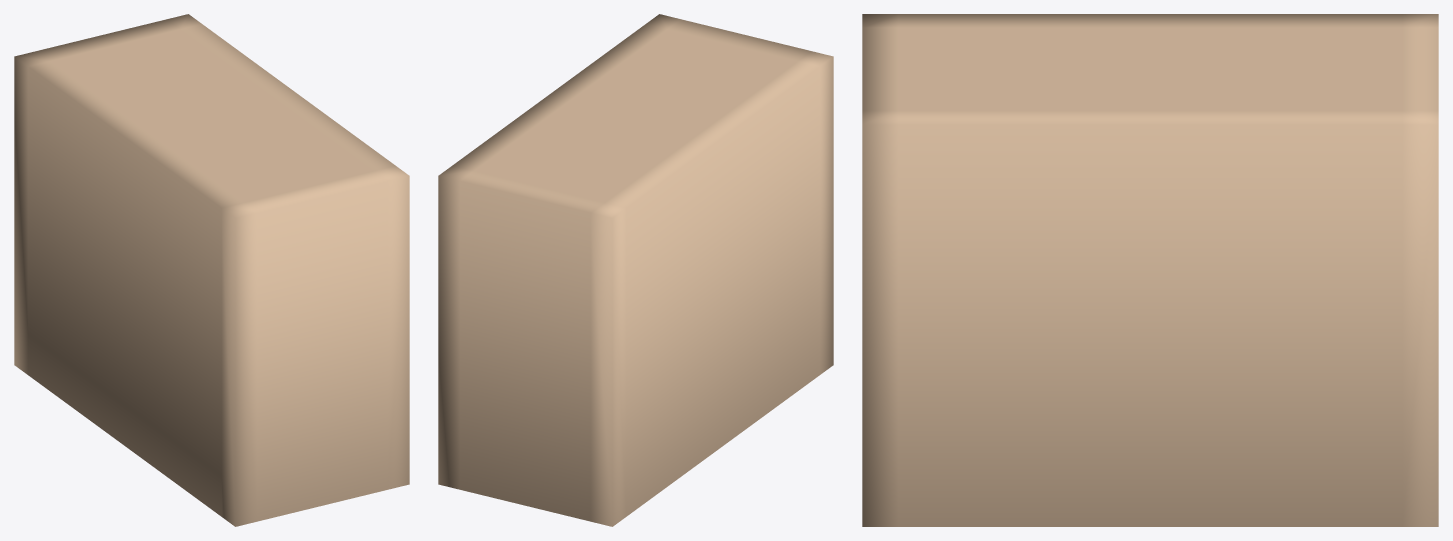
File: Lvl2Sand.fbx
3 renders of one model, left to right at view 1: azimuth 30°, elevation 25°; view 2: azimuth 150°, elevation 25°; view 3: azimuth 270°, elevation 25°, orthographic. The views are drawn at different scales.
Visible parts, largest first — view 1: Quicksand2:Quicksand; view 2: Quicksand2:Quicksand; view 3: Quicksand2:Quicksand.
Part boxes in pixels (left/top/right/bottom): Quicksand2:Quicksand: left=14, top=14, right=409, bottom=526; Quicksand2:Quicksand: left=438, top=14, right=833, bottom=526; Quicksand2:Quicksand: left=862, top=14, right=1438, bottom=526.
Size of the model in its own units: 13.93 by 23.59 by 30.62.
